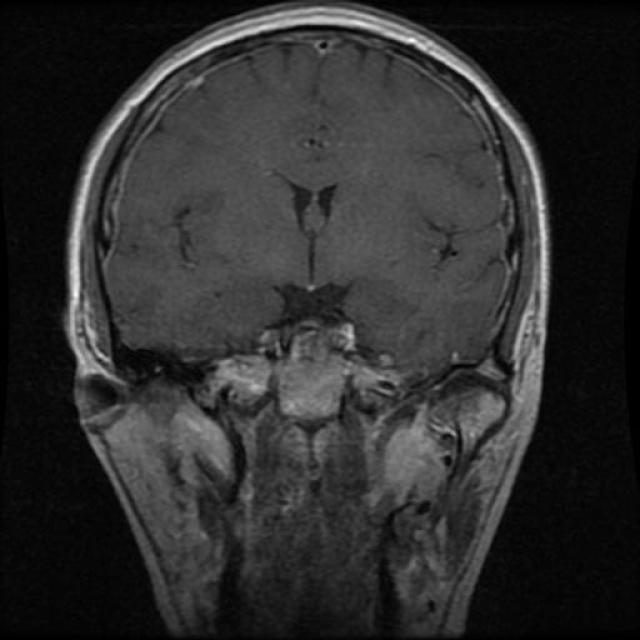pituitary: (221, 316, 387, 432)
